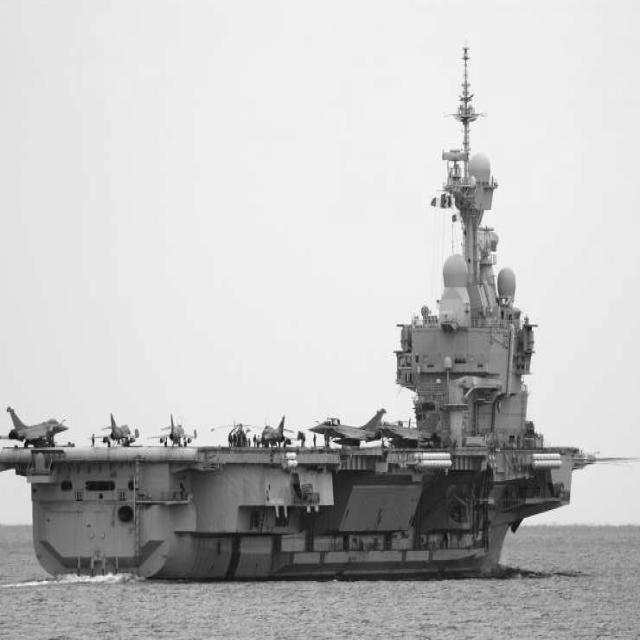Portanaves: (1, 36, 612, 589)
